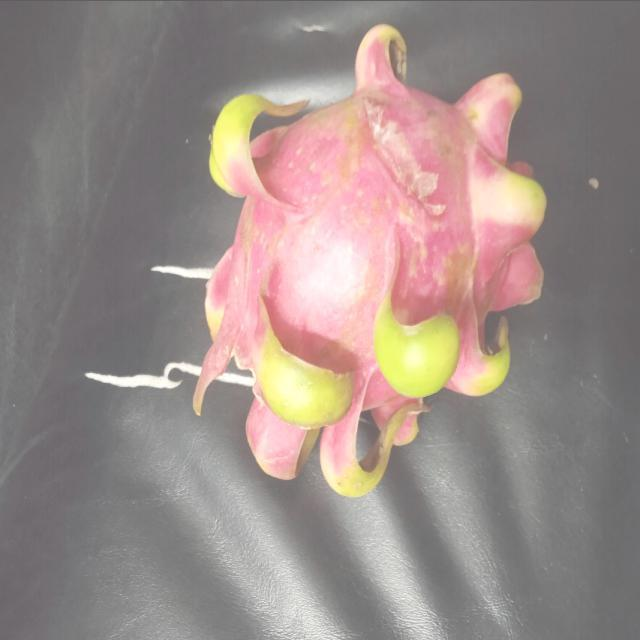do: (186, 17, 550, 501)
